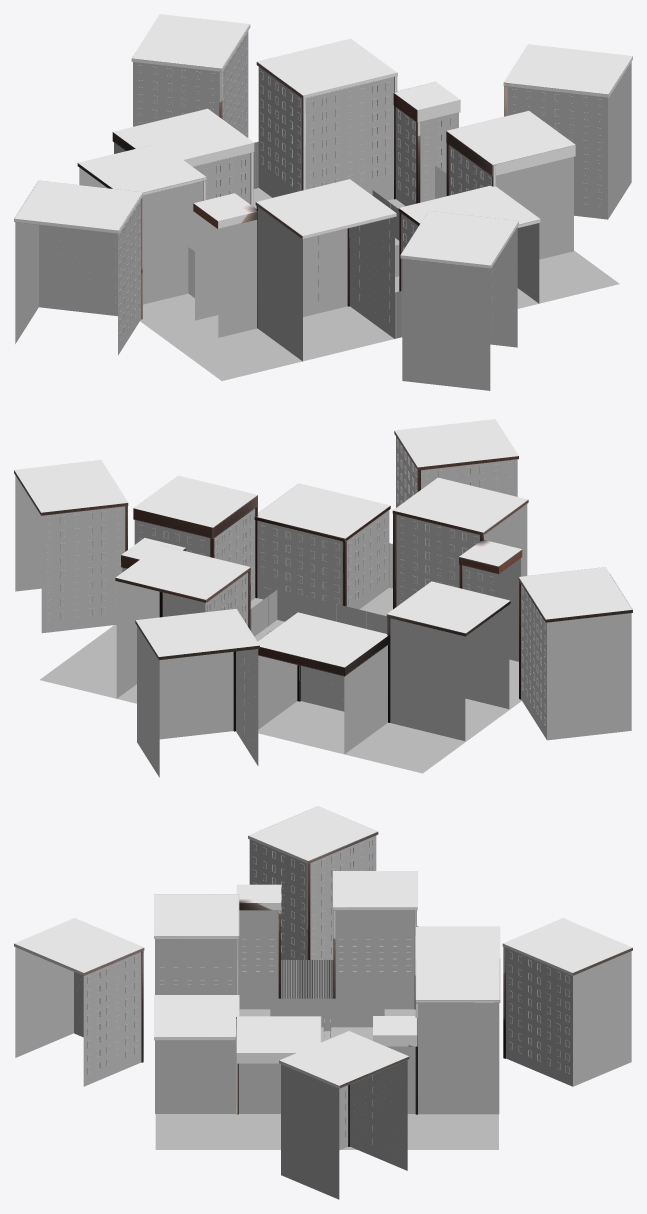
Rendered from Court_with_texture.fbx.
The picture shows the model from 3 angles, top to bottom: view 1: azimuth 30°, elevation 25°; view 2: azimuth 150°, elevation 25°; view 3: azimuth 270°, elevation 25°; orthographic projection. The views are drawn at different scales.
Parts seen in each view (by area): view 1: Court; view 2: Court; view 3: Court.
Part boxes in pixels (bbox=[...]): Court: bbox=[14, 14, 632, 390]; Court: bbox=[14, 419, 632, 777]; Court: bbox=[14, 806, 632, 1199].
Size of the model in its own units: 16234 by 3105 by 15176.
